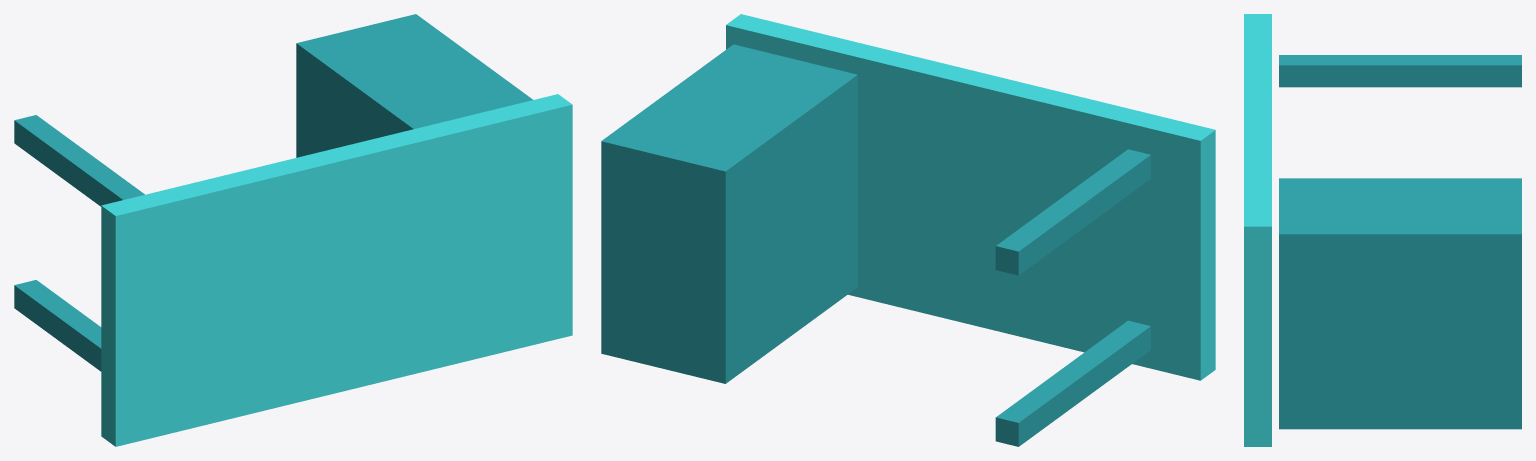
The model's file is desk.glb.
3 views of the same model, side by side, from view 1: azimuth 30°, elevation 25°; view 2: azimuth 150°, elevation 25°; view 3: azimuth 270°, elevation 25° (orthographic). The views are drawn at different scales.
Visible parts, largest first — view 1: world; view 2: world; view 3: world.
Boxes of the visible parts, x1,y1,x2,y2 form: world: (14, 14, 572, 446); world: (601, 14, 1215, 446); world: (1244, 14, 1521, 446).
Bounding box in the file's own units: 1.45 × 0.7 × 0.8.
